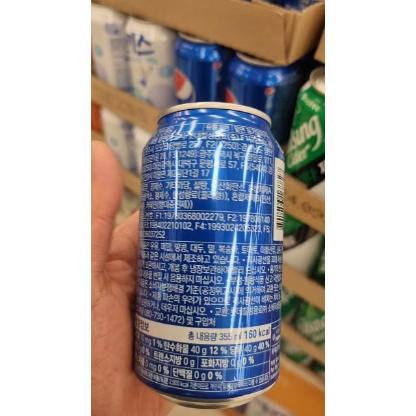Can: (126, 98, 290, 413)
